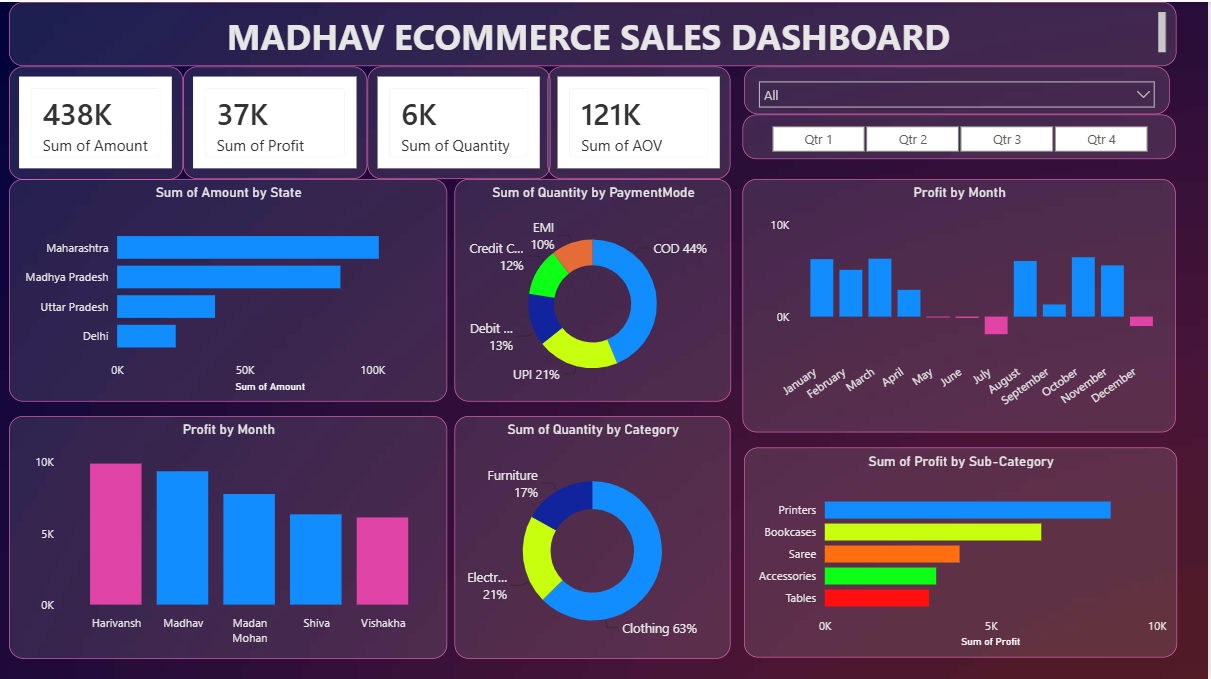

Layout of this report page (visuals, bound fields, positions):
{"tool":"powerbi","page":{"name":"Page 1","canvas":[1280,720],"ordinal":0},"visuals":[{"type":"textbox","box":[9.8,0,1237.8,68.3],"z":0},{"type":"columnChart","title":"Profit by Month","fields":{"Category":["Orders.Order Date.Variation.Date Hierarchy.Month"],"Y":["Sum(Details.Profit)"]},"box":[788,187.1,459.2,268.3],"z":1000},{"type":"barChart","fields":{"Category":["Details.Sub-Category"],"Y":["Sum(Details.Profit)"]},"box":[788.3,472.6,459.3,222.6],"z":2000},{"type":"donutChart","fields":{"Category":["Details.Category"],"Y":["Sum(Details.Quantity)"]},"box":[481.9,438.4,292.9,257],"z":3000},{"type":"donutChart","fields":{"Y":["Sum(Details.Quantity)"],"Category":["Details.PaymentMode"]},"box":[481.5,187.1,293.5,235.9],"z":4000},{"type":"cardVisual","fields":{"Data":["Sum(Details.Amount)"]},"box":[9.8,68.3,184.4,119.7],"z":5000},{"type":"cardVisual","fields":{"Data":["Sum(Details.Profit)"]},"box":[194.1,68.4,195.6,119.3],"z":6000},{"type":"cardVisual","fields":{"Data":["Sum(Details.Quantity)"]},"box":[389.7,68.4,194.1,119.3],"z":7000},{"type":"cardVisual","fields":{"Data":["Sum(Details.AOV)"]},"box":[580.6,68.4,194.1,119.3],"z":8000},{"type":"barChart","fields":{"Category":["Orders.State"],"Y":["Sum(Details.Amount)"]},"box":[9.4,187.1,464.9,236.2],"z":9000},{"type":"columnChart","title":"Profit by Month","fields":{"Category":["Orders.CustomerName"],"Y":["Sum(Details.Amount)"]},"box":[9.4,438.4,464.9,257],"z":10000},{"type":"slicer","fields":{"Values":["Orders.Order Date.Variation.Date Hierarchy.Quarter"]},"box":[788,119.1,459.2,47.2],"z":11000},{"type":"slicer","fields":{"Values":["Orders.State"]},"box":[788.3,68.3,451.3,50.5],"z":12000}]}

Visuals, with their boxes in screenshot pixels (x1, y1, x2, y2), scaled from the page's 1280x720 canvas onto the 1211x679 screenshot:
textbox: <region>9, 0, 1180, 64</region>
"Profit by Month" columnChart: <region>746, 176, 1180, 429</region>
barChart - Details.Sub-Category x Sum(Details.Profit): <region>746, 446, 1180, 656</region>
donutChart - Details.Category x Sum(Details.Quantity): <region>456, 413, 733, 656</region>
donutChart - Sum(Details.Quantity) x Details.PaymentMode: <region>456, 176, 733, 399</region>
cardVisual - Sum(Details.Amount): <region>9, 64, 184, 177</region>
cardVisual - Sum(Details.Profit): <region>184, 65, 369, 177</region>
cardVisual - Sum(Details.Quantity): <region>369, 65, 552, 177</region>
cardVisual - Sum(Details.AOV): <region>549, 65, 733, 177</region>
barChart - Orders.State x Sum(Details.Amount): <region>9, 176, 449, 399</region>
"Profit by Month" columnChart: <region>9, 413, 449, 656</region>
slicer - Orders.Order Date.Variation.Date Hierarchy.Quarter: <region>746, 112, 1180, 157</region>
slicer - Orders.State: <region>746, 64, 1173, 112</region>
